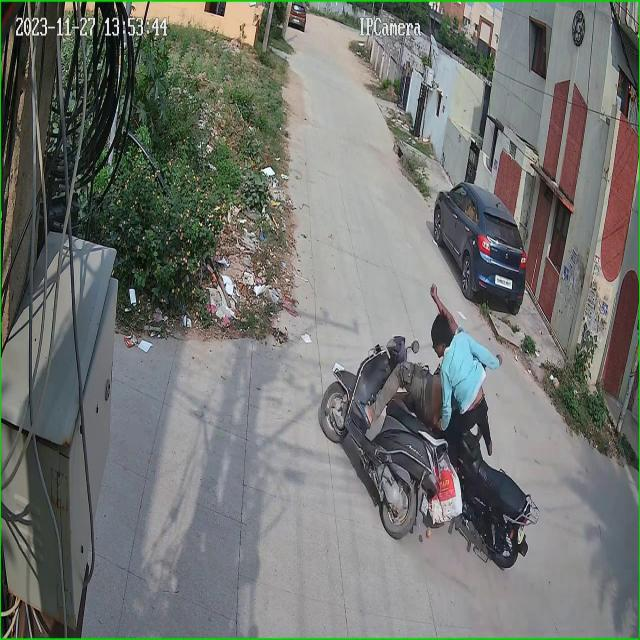accident: (318, 278, 536, 574)
